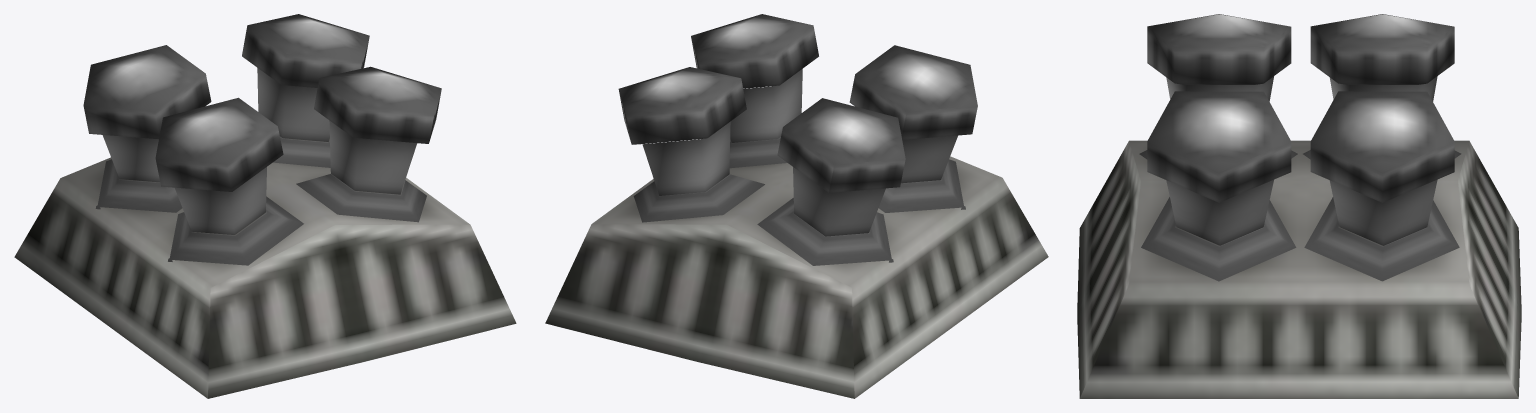
Rendered from acc_1.glb.
The picture shows the model from 3 angles, left to right: view 1: azimuth 30°, elevation 25°; view 2: azimuth 150°, elevation 25°; view 3: azimuth 270°, elevation 25°; orthographic projection. The views are drawn at different scales.
Parts seen in each view (by area): view 1: base, vertex; view 2: base, vertex; view 3: base, vertex.
Boxes of the visible parts, x1,y1,x2,y2 form: base: (14, 68, 516, 398); vertex: (83, 14, 441, 265); base: (545, 69, 1048, 398); vertex: (618, 14, 977, 265); base: (1077, 76, 1521, 398); vertex: (1139, 14, 1461, 281).
Size of the model in its own units: 0.6042 by 0.4091 by 0.6648.
2 materials, 2 textured.
